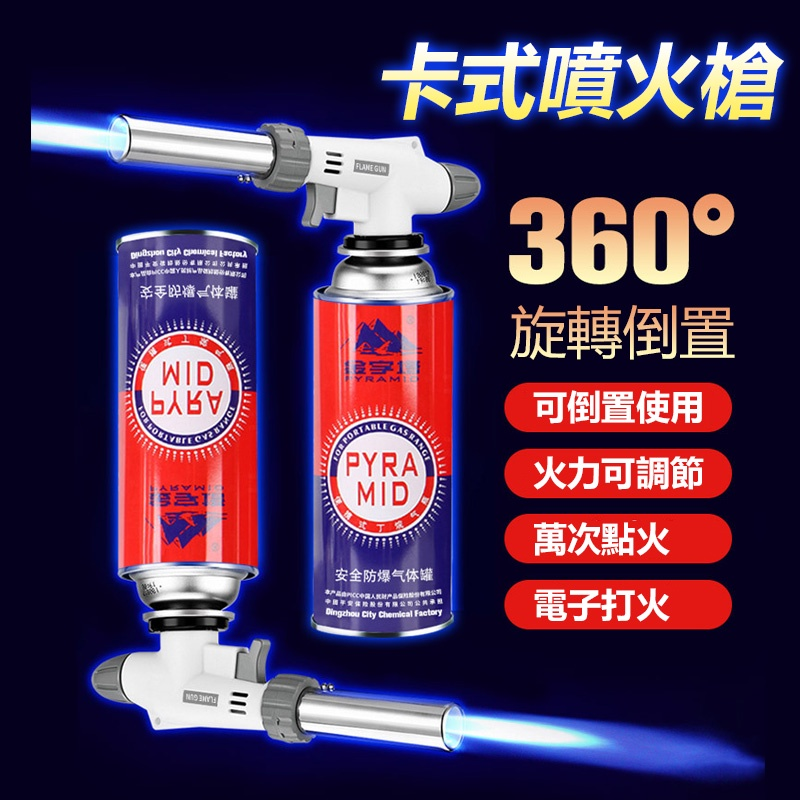gastorch: (114, 112, 491, 639), (102, 229, 468, 759)
